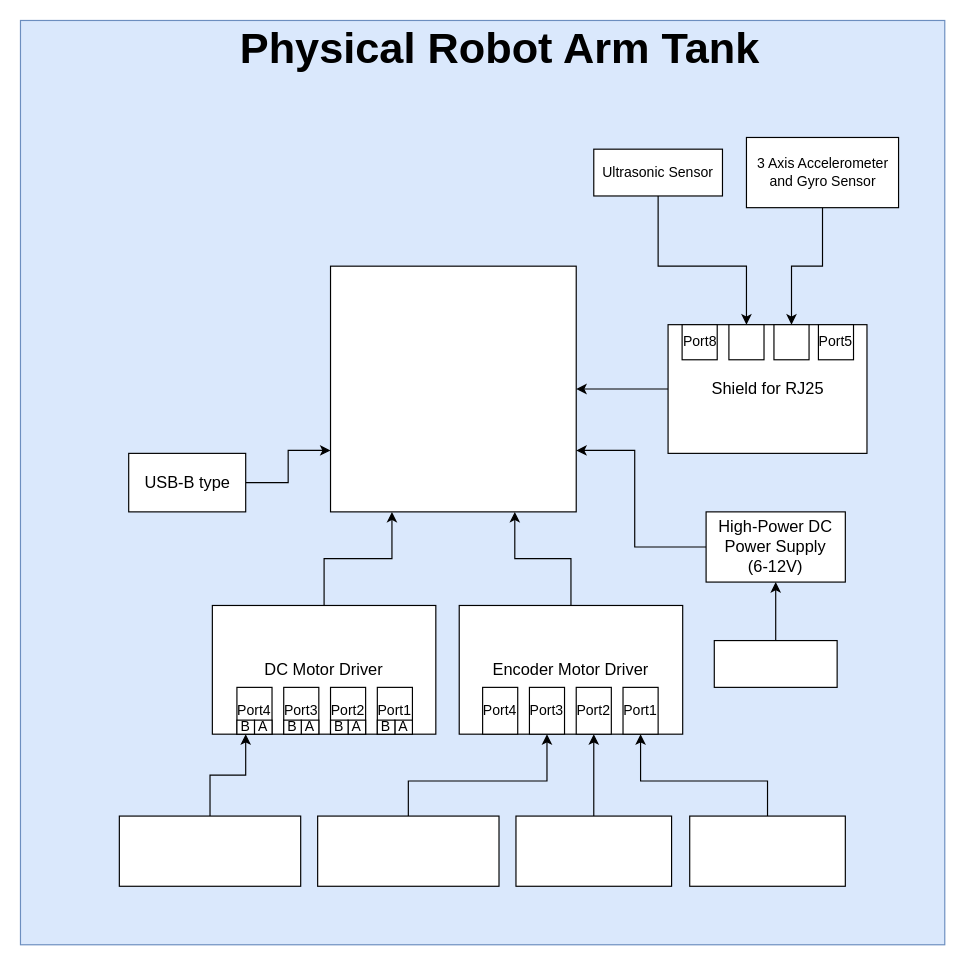
The diagram is 965 pixels wide and 965 high, and some of its shapes have lost their labels. The shapes that lost their labels are listed below. From the top down, each one's centre as x and y in pixels, then its label:
At point (746, 342): "Port7".
At point (791, 342): "Port6".
At point (452, 388): "MegaPi".
At point (775, 663): "Battery Holder 6 x AA".
At point (209, 850): "DC Motor (Makeblock Robot Gripper)".
At point (407, 850): "Encoder Motor 9V/86RPM (Arm Up/Down Movement)".
At point (593, 850): "Encoder Motor 9V/185RPM (Left Track)".
At point (767, 850): "Encoder Motor 9V/185RPM (Right Track)".
